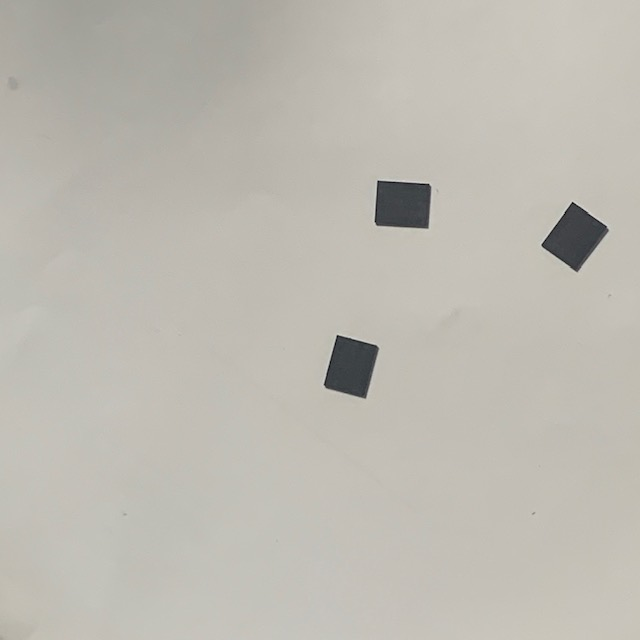IC: (539, 199, 612, 276), (320, 332, 382, 402), (370, 178, 433, 232)
